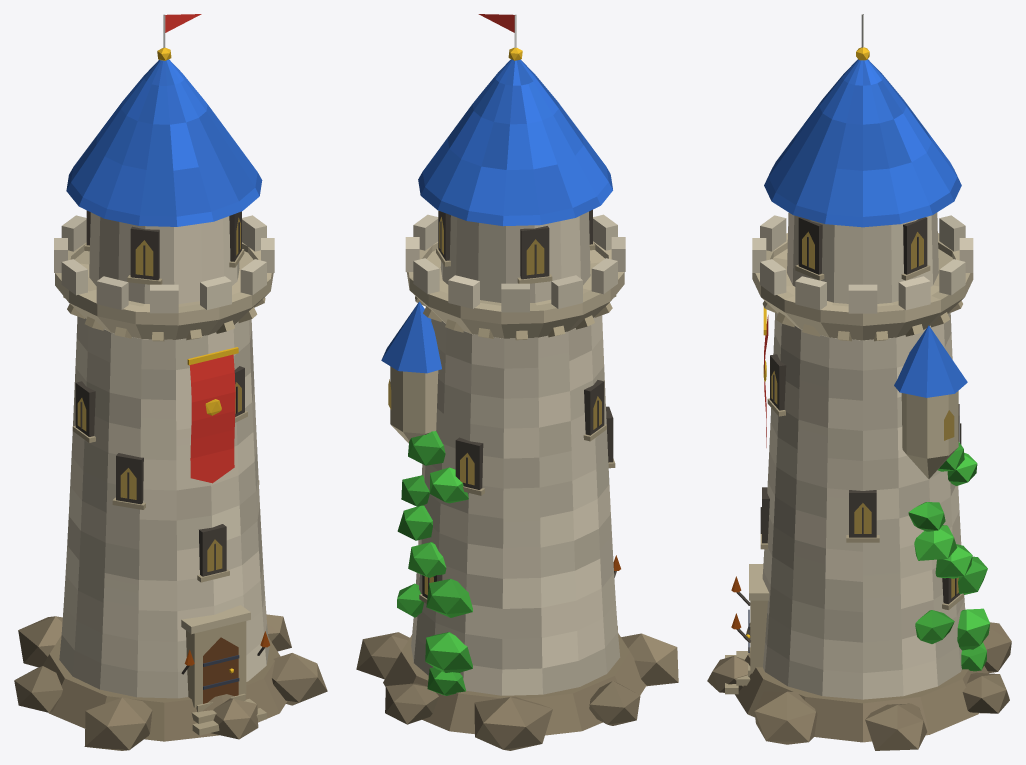
The model's file is tower.glb.
The picture shows the model from 3 angles, left to right: view 1: azimuth 30°, elevation 25°; view 2: azimuth 150°, elevation 25°; view 3: azimuth 270°, elevation 25°; orthographic projection.
Parts seen in each view (by area): view 1: tower; view 2: tower; view 3: tower.
Boxes of the visible parts, <box> form: tower: <box>14,14,327,750</box>; tower: <box>356,14,678,750</box>; tower: <box>707,14,1011,750</box>.
Size of the model in its own units: 13.57 by 32.9 by 13.24.
2 materials, 2 textured.
